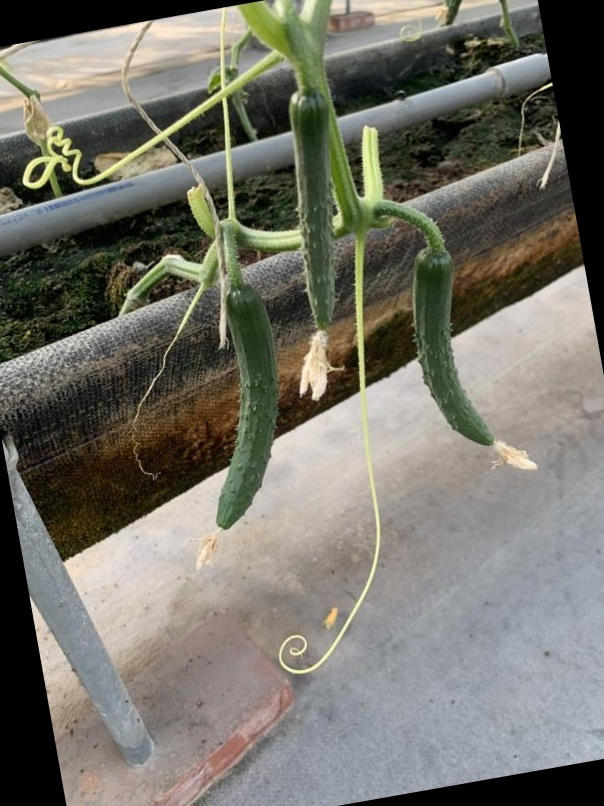growth: (411, 238, 502, 456), (284, 80, 347, 348)
mature: (206, 281, 284, 534)
